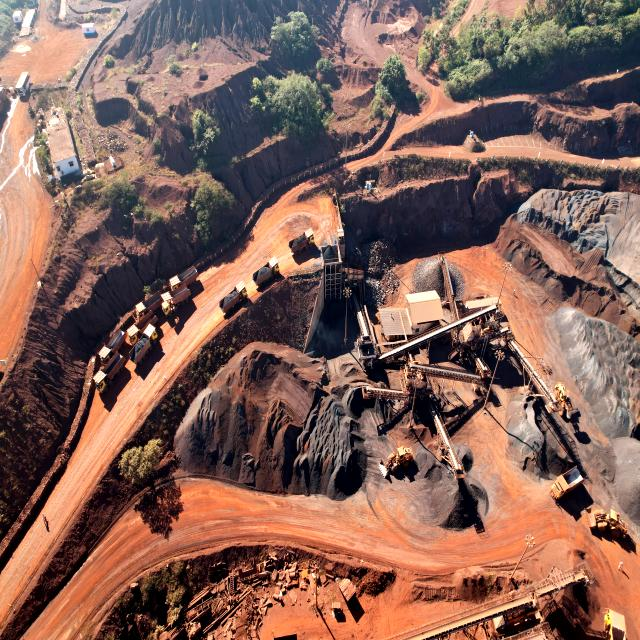Dumper truck: (129, 324, 159, 354), (94, 362, 123, 392), (550, 472, 581, 500), (602, 609, 630, 640), (219, 280, 248, 308), (289, 227, 316, 256), (253, 258, 280, 286), (98, 334, 125, 360), (163, 294, 190, 315), (136, 298, 163, 319), (171, 271, 196, 290)
person: (618, 561, 624, 573), (41, 512, 47, 524), (42, 516, 48, 525), (513, 288, 516, 296)
